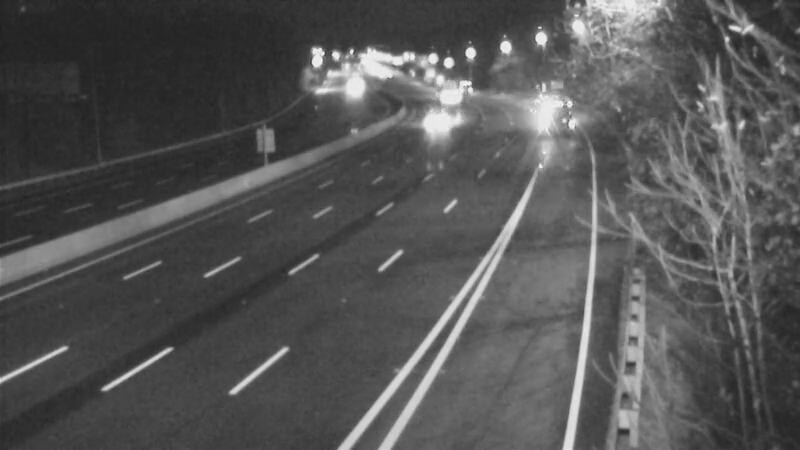vehicle: (440, 63, 490, 113), (424, 63, 474, 113), (516, 82, 566, 132), (415, 93, 465, 143), (326, 57, 376, 107)
